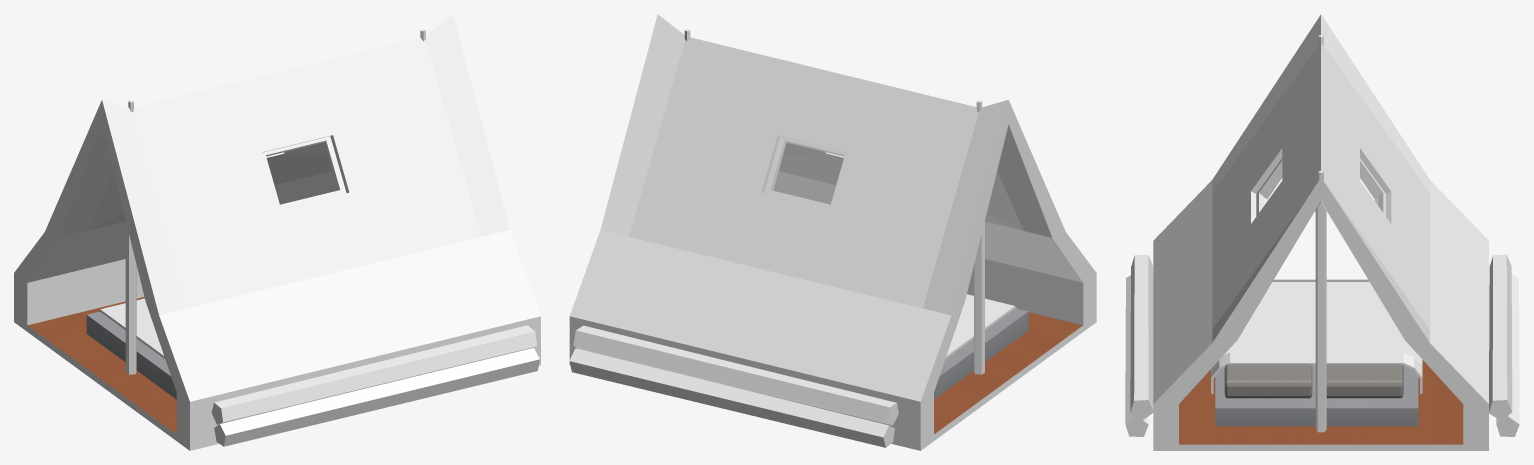
File: tienda2.fbx
The picture shows the model from 3 angles, left to right: view 1: azimuth 30°, elevation 25°; view 2: azimuth 150°, elevation 25°; view 3: azimuth 270°, elevation 25°; orthographic projection. The views are drawn at different scales.
Parts seen in each view (by area): view 1: tienda2; view 2: tienda2; view 3: tienda2.
Part boxes in pixels (x1=…): tienda2: x1=14, y1=14, x2=540, y2=450; tienda2: x1=569, y1=14, x2=1096, y2=450; tienda2: x1=1125, y1=14, x2=1519, y2=450.
Bounding box in the file's own units: 772 × 603 × 788.
